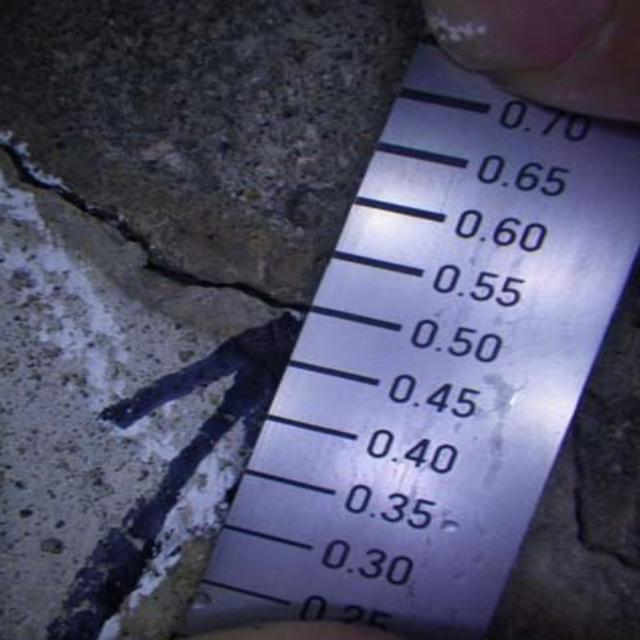crack: (0, 139, 309, 340), (547, 428, 640, 593)
